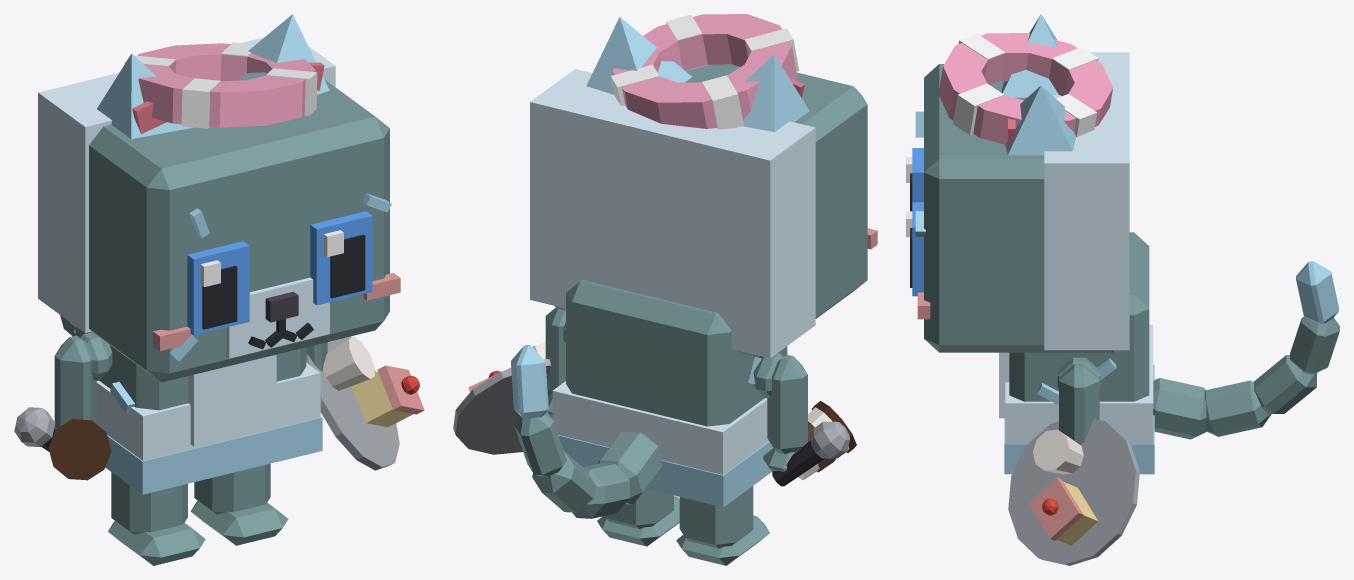
File: CatCafe_Cat_Splash_Work.fbx
3 renders of one model, left to right at view 1: azimuth 30°, elevation 25°; view 2: azimuth 150°, elevation 25°; view 3: azimuth 270°, elevation 25°, orthographic. The views are drawn at different scales.
Parts seen in each view (by area): view 1: CatCafe_Cat_Splash_Work_Head, CatCafe_Cat_Splash_Work_Body, CatCafe_Cat_Splash_Work_Prop, CatCafe_Cat_Splash_Work_Held_Waiter, CatCafe_Cat_Splash_Work_LegB2, CatCafe_Cat_Splash_Work_LegB1, CatCafe_Cat_Splash_Work_Eye2, CatCafe_Cat_Splash_Work_Eye1, CatCafe_Cat_Splash_Work_LegF2, CatCafe_Cat_Splash_Work_EarR, CatCafe_Cat_Splash_Work_Held_Barista, CatCafe_Cat_Splash_Work_EarL (+1 smaller); view 2: CatCafe_Cat_Splash_Work_Head, CatCafe_Cat_Splash_Work_Body, CatCafe_Cat_Splash_Work_Prop, CatCafe_Cat_Splash_Work_Tail, CatCafe_Cat_Splash_Work_LegB2, CatCafe_Cat_Splash_Work_Held_Waiter, CatCafe_Cat_Splash_Work_LegF2, CatCafe_Cat_Splash_Work_EarR, CatCafe_Cat_Splash_Work_LegB1, CatCafe_Cat_Splash_Work_EarL, CatCafe_Cat_Splash_Work_Held_Entertainer, CatCafe_Cat_Splash_Work_LegF1 (+1 smaller); view 3: CatCafe_Cat_Splash_Work_Head, CatCafe_Cat_Splash_Work_Held_Waiter, CatCafe_Cat_Splash_Work_Body, CatCafe_Cat_Splash_Work_Prop, CatCafe_Cat_Splash_Work_Tail, CatCafe_Cat_Splash_Work_EarL, CatCafe_Cat_Splash_Work_LegF1, CatCafe_Cat_Splash_Work_EarR, CatCafe_Cat_Splash_Work_Eye1, CatCafe_Cat_Splash_Work_Eye2.
Part boxes in pixels (x1,y1,x2,y2): CatCafe_Cat_Splash_Work_Head: (38,37,400,382); CatCafe_Cat_Splash_Work_Body: (75,326,322,494); CatCafe_Cat_Splash_Work_Prop: (124,42,317,128); CatCafe_Cat_Splash_Work_Held_Waiter: (306,336,424,470); CatCafe_Cat_Splash_Work_LegB2: (108,472,205,565); CatCafe_Cat_Splash_Work_LegB1: (190,463,288,545); CatCafe_Cat_Splash_Work_Eye2: (187,241,249,335); CatCafe_Cat_Splash_Work_Eye1: (310,211,372,305); CatCafe_Cat_Splash_Work_LegF2: (54,335,96,428); CatCafe_Cat_Splash_Work_EarR: (97,53,192,138); CatCafe_Cat_Splash_Work_Held_Barista: (48,419,111,480); CatCafe_Cat_Splash_Work_EarL: (238,14,329,94); CatCafe_Cat_Splash_Work_Head: (530,64,877,358); CatCafe_Cat_Splash_Work_Body: (552,279,787,507); CatCafe_Cat_Splash_Work_Prop: (611,14,799,129); CatCafe_Cat_Splash_Work_Tail: (511,345,661,518); CatCafe_Cat_Splash_Work_LegB2: (676,486,769,565); CatCafe_Cat_Splash_Work_Held_Waiter: (453,342,551,454); CatCafe_Cat_Splash_Work_LegF2: (763,354,807,471); CatCafe_Cat_Splash_Work_EarR: (743,54,809,131); CatCafe_Cat_Splash_Work_LegB1: (597,488,679,546); CatCafe_Cat_Splash_Work_EarL: (586,17,691,94); CatCafe_Cat_Splash_Work_Held_Entertainer: (772,421,849,486); CatCafe_Cat_Splash_Work_LegF1: (545,308,565,418); CatCafe_Cat_Splash_Work_Head: (915,52,1129,352); CatCafe_Cat_Splash_Work_Held_Waiter: (1008,418,1139,565); CatCafe_Cat_Splash_Work_Body: (999,232,1154,474); CatCafe_Cat_Splash_Work_Prop: (938,33,1112,144); CatCafe_Cat_Splash_Work_Tail: (1153,261,1339,439); CatCafe_Cat_Splash_Work_EarL: (1005,85,1075,155); CatCafe_Cat_Splash_Work_LegF1: (1059,364,1099,444); CatCafe_Cat_Splash_Work_EarR: (1001,14,1058,97); CatCafe_Cat_Splash_Work_Eye1: (906,202,923,296); CatCafe_Cat_Splash_Work_Eye2: (906,148,923,211).
Bounding box in the file's own units: 1.53 × 1.93 × 1.62.
1 material, 1 textured.
